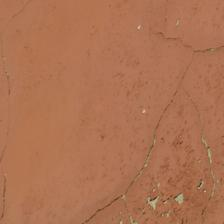Crack: (42, 56, 153, 168), (0, 77, 85, 147), (8, 121, 39, 215)
